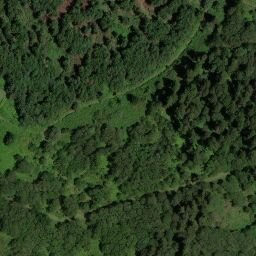forest: (221, 1, 256, 173), (45, 1, 184, 44), (180, 51, 222, 174), (101, 206, 190, 256), (128, 124, 181, 188), (1, 1, 44, 70), (15, 180, 85, 222), (107, 149, 180, 189), (9, 221, 90, 256), (44, 1, 92, 54), (1, 70, 130, 88), (190, 225, 256, 256), (83, 45, 168, 67), (1, 201, 53, 236), (180, 181, 211, 227), (14, 88, 74, 108), (55, 144, 90, 176), (70, 125, 98, 156), (203, 23, 225, 54), (36, 170, 63, 195), (98, 124, 123, 151), (17, 108, 58, 124), (86, 182, 109, 207), (85, 208, 102, 239), (1, 169, 16, 199), (76, 89, 103, 103)
